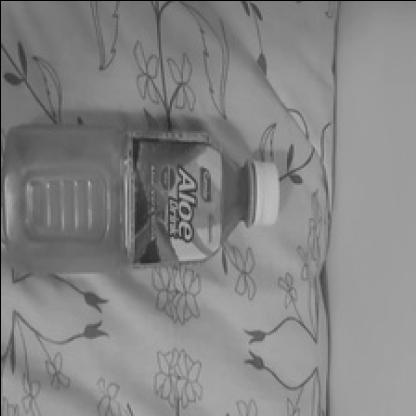plastic_bottles: (0, 130, 286, 266)
